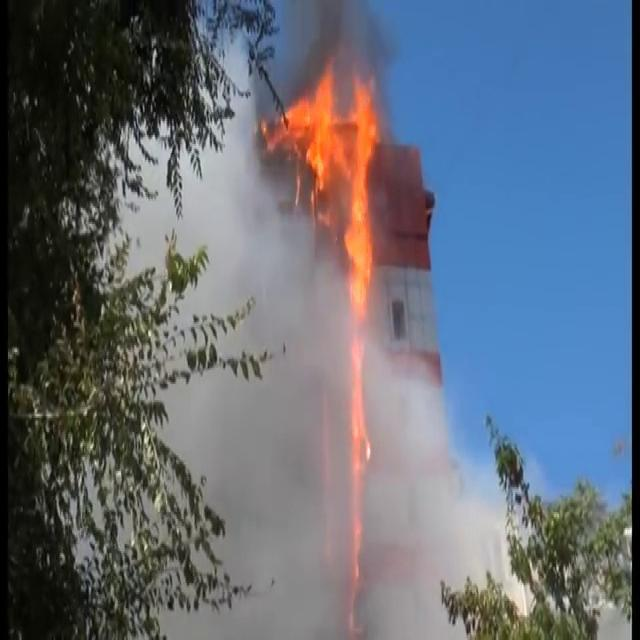Fire: (276, 50, 384, 313)
Smoke: (198, 188, 512, 634)
